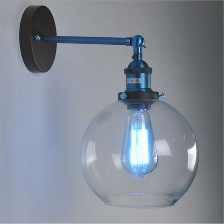light_bulb: (111, 98, 164, 183)
